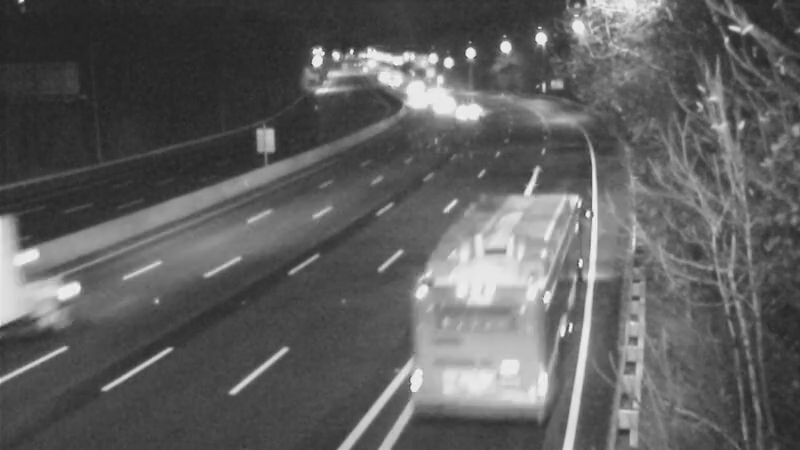vehicle: (436, 252, 516, 332), (393, 63, 443, 113), (392, 75, 442, 125), (419, 82, 469, 132), (439, 85, 489, 135)
